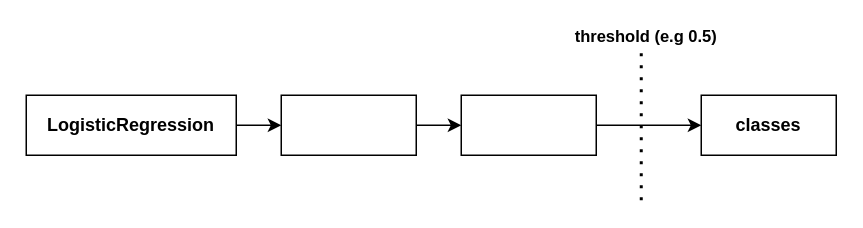
The diagram is 863 pixels wide and 228 high, and some of its shapes have lost their labels. Here are the shapes that lost their labels. From the top down, the box of each, then its label:
(280, 94, 416, 155): log(odds)
(460, 94, 596, 155): probablities [0,1]
